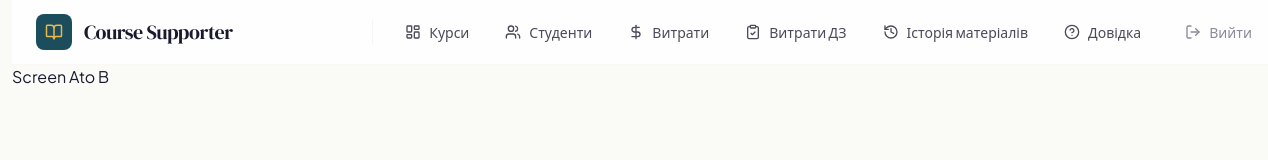
Test: AppLayout shell persistence (В3) › mounts the activity-strip hook once across child-route navigation
Expected: the text "Screen A" is shown, [12,66,79,87]
Click the link "to B" at x=94, y=76, box [79,66,109,87]
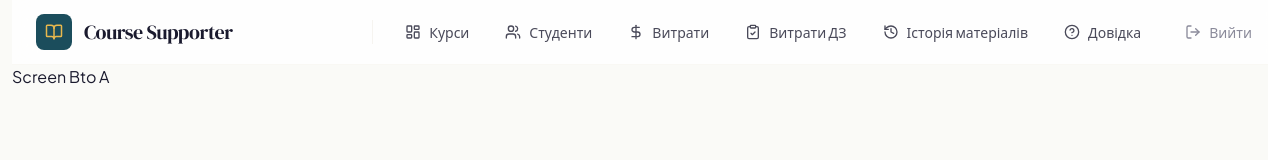
Expected: the text "Screen B" is shown, [12,66,80,87]
Click the link "to A" at x=95, y=76, box [80,66,110,87]
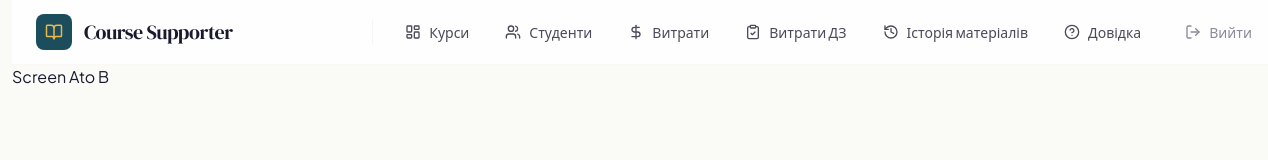
Expected: the text "Screen A" is shown, [12,66,79,87]
